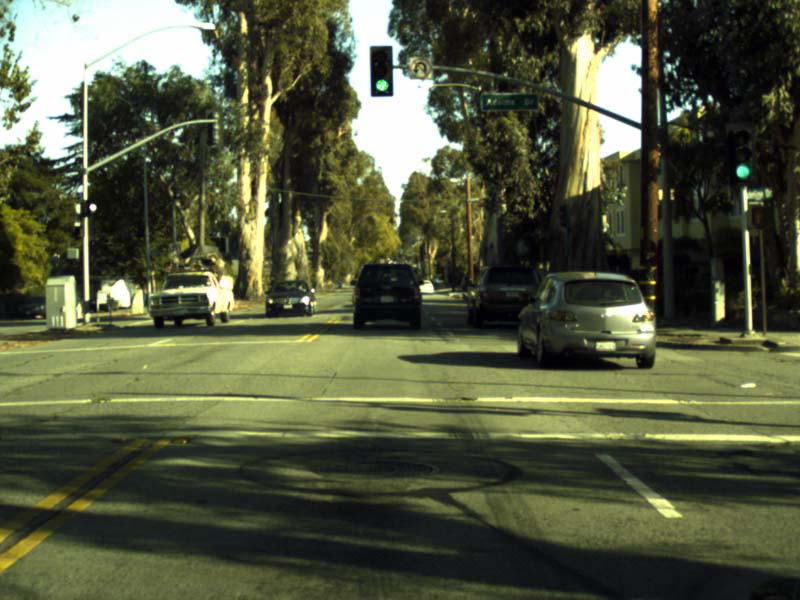Green: (727, 122, 758, 184), (369, 43, 393, 96)
